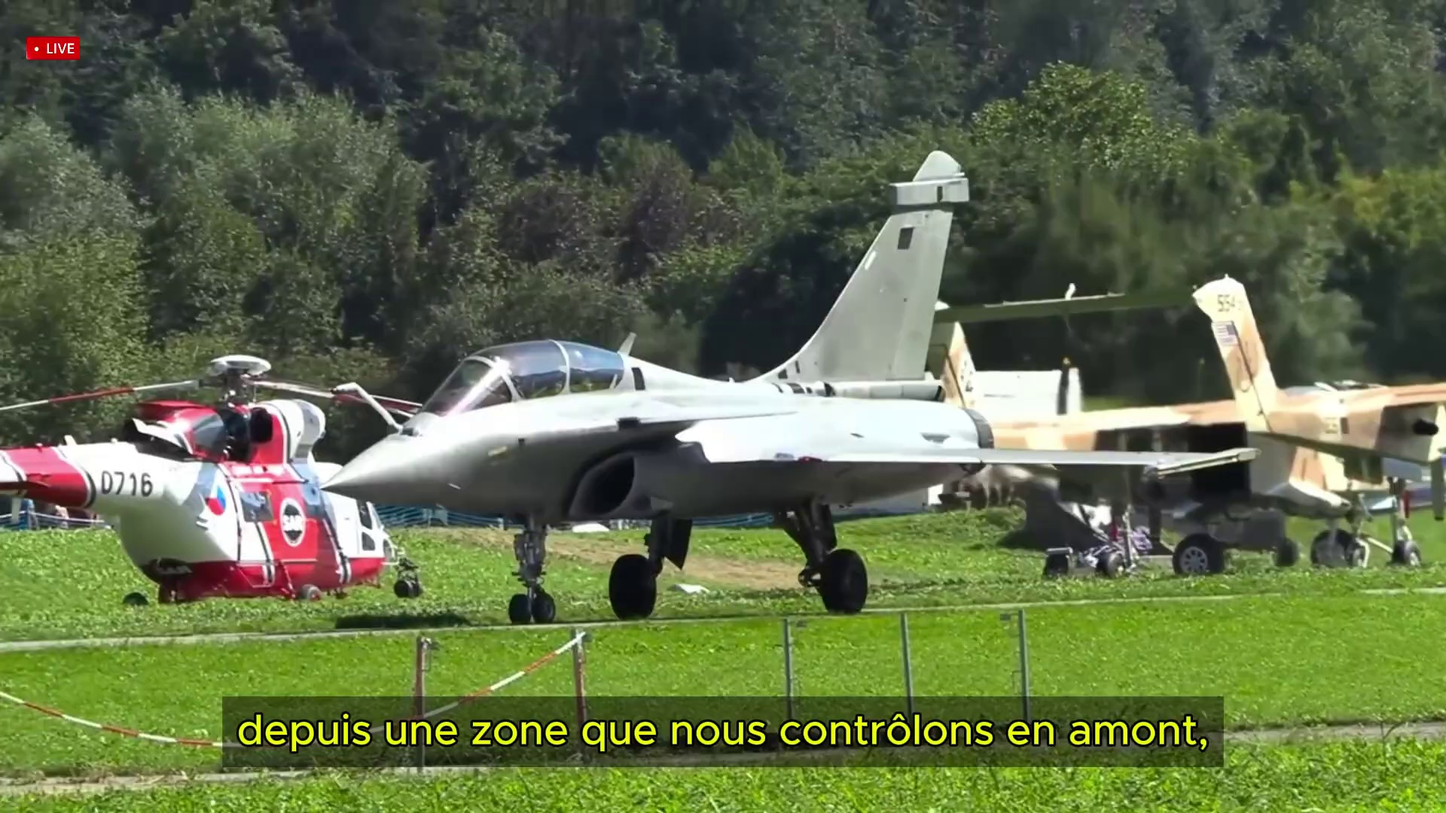Rafale: (319, 150, 1260, 620)
